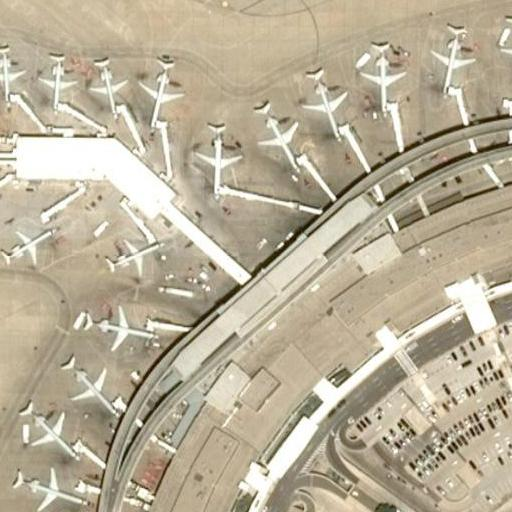Aircraft: (15, 400, 84, 464), (296, 68, 352, 135), (190, 125, 241, 198), (8, 468, 91, 512), (82, 302, 155, 350), (250, 102, 304, 165), (58, 354, 116, 412), (429, 23, 474, 93), (360, 42, 403, 110), (138, 56, 179, 126), (85, 57, 129, 120), (102, 233, 165, 275), (37, 51, 79, 114), (0, 222, 55, 262), (0, 45, 27, 107), (499, 9, 512, 76)
